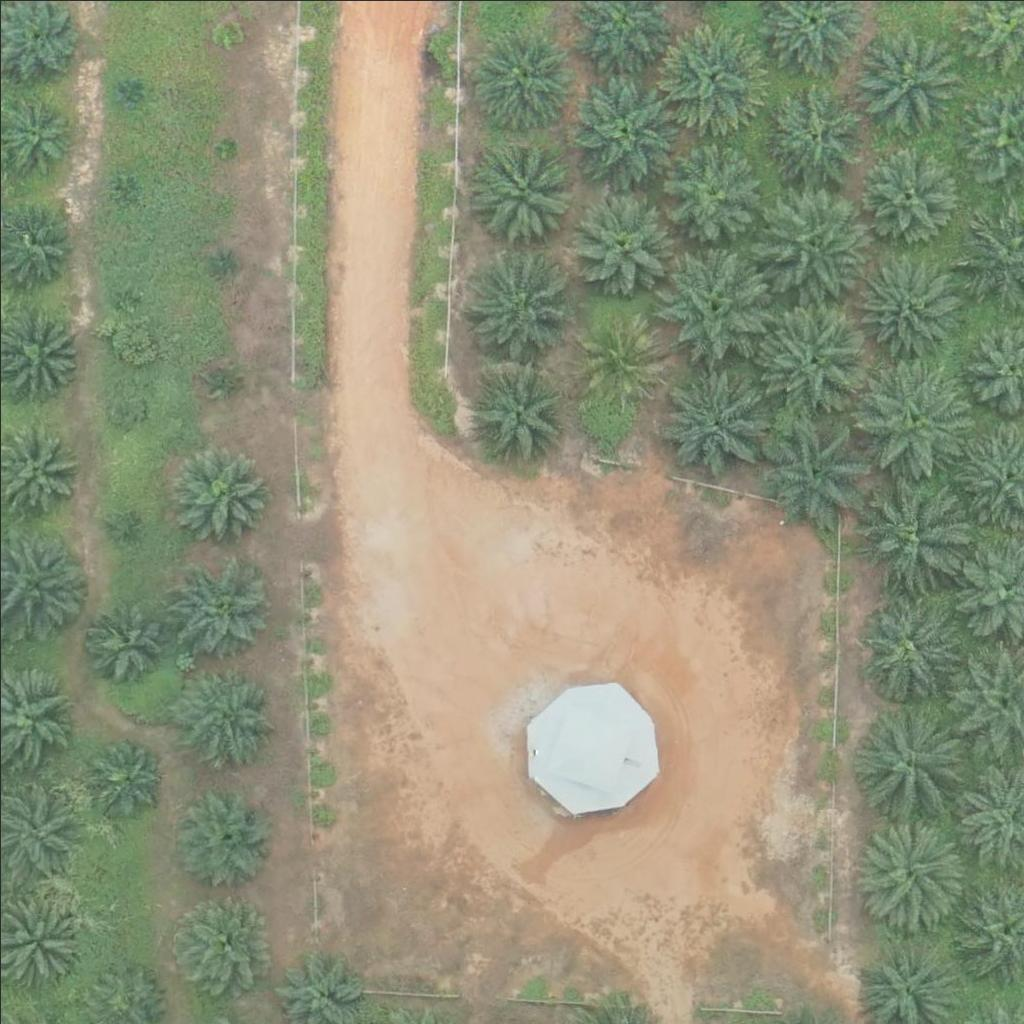Kelapa_Sawit: (653, 363, 766, 477), (655, 247, 768, 361), (755, 412, 868, 526), (849, 813, 962, 926), (854, 701, 967, 814), (566, 75, 679, 188), (756, 306, 868, 420), (853, 473, 965, 587), (654, 14, 766, 127), (459, 249, 571, 362), (759, 182, 871, 295), (856, 360, 968, 473), (177, 667, 277, 768), (169, 556, 269, 657), (171, 448, 271, 549), (469, 361, 569, 462), (763, 78, 863, 179), (857, 255, 957, 356), (856, 142, 956, 243), (856, 33, 956, 134), (857, 595, 957, 695), (167, 894, 267, 994), (172, 787, 272, 887), (474, 142, 574, 242), (469, 28, 569, 128), (568, 189, 668, 289), (662, 139, 762, 239), (575, 311, 663, 399), (81, 599, 168, 687), (86, 739, 161, 815), (105, 386, 143, 424), (105, 514, 130, 539), (109, 284, 134, 309), (115, 168, 140, 193), (209, 364, 234, 389), (209, 251, 234, 276), (213, 133, 238, 158), (217, 21, 242, 46), (114, 79, 139, 104)
